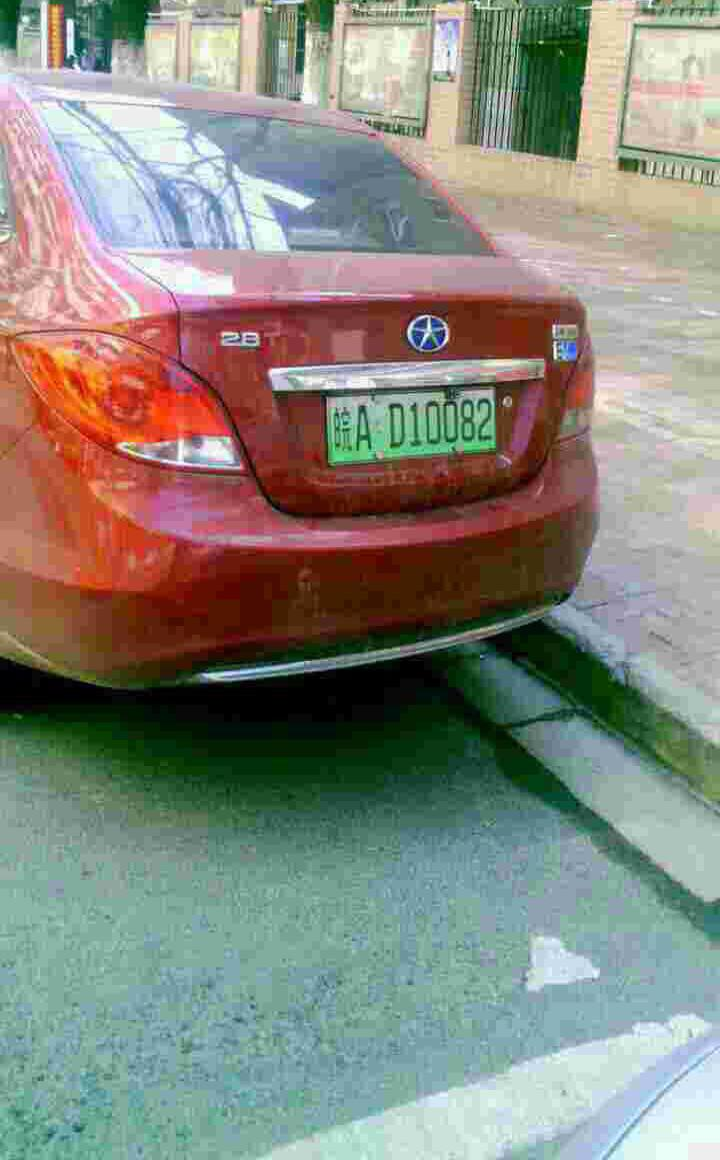car_id: (322, 385, 496, 460)
